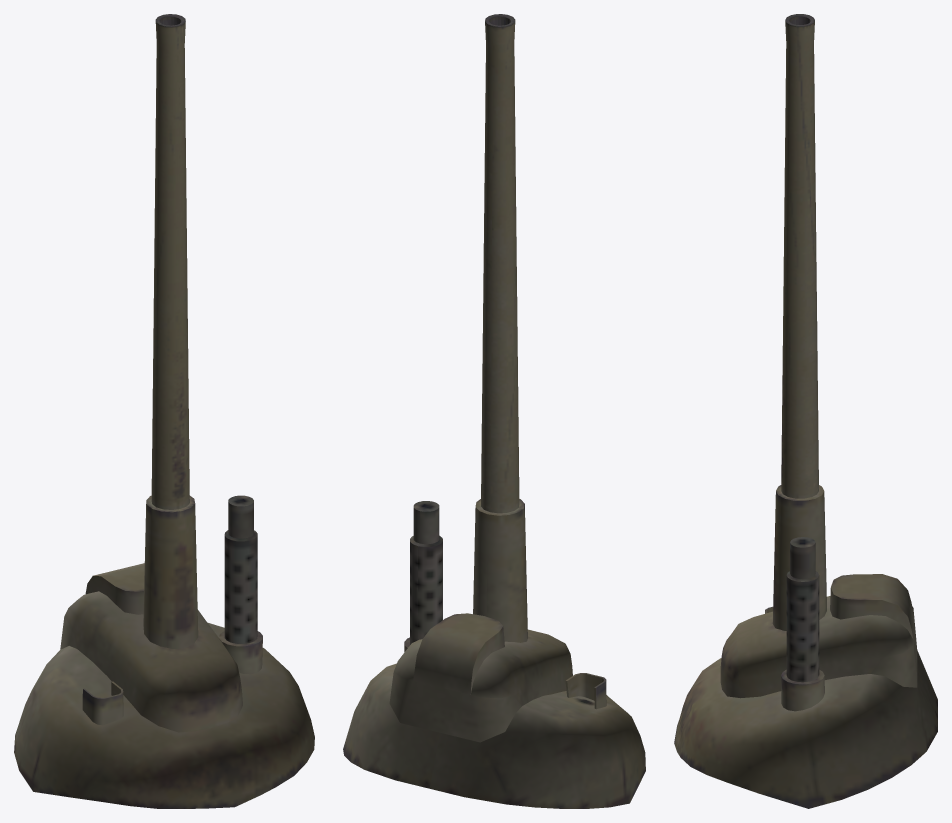
File: Gun_02.glb
The picture shows the model from 3 angles, left to right: view 1: azimuth 30°, elevation 25°; view 2: azimuth 150°, elevation 25°; view 3: azimuth 270°, elevation 25°; orthographic projection. The views are drawn at different scales.
Parts seen in each view (by area): view 1: set_0_group_0; view 2: set_0_group_0; view 3: set_0_group_0.
Part boxes in pixels (<box>): set_0_group_0: <box>14,14,314,808</box>; set_0_group_0: <box>343,14,645,808</box>; set_0_group_0: <box>674,14,937,808</box>.
Bounding box in the file's own units: 0.5284 × 1.41 × 0.4645.
1 material, 1 textured.
